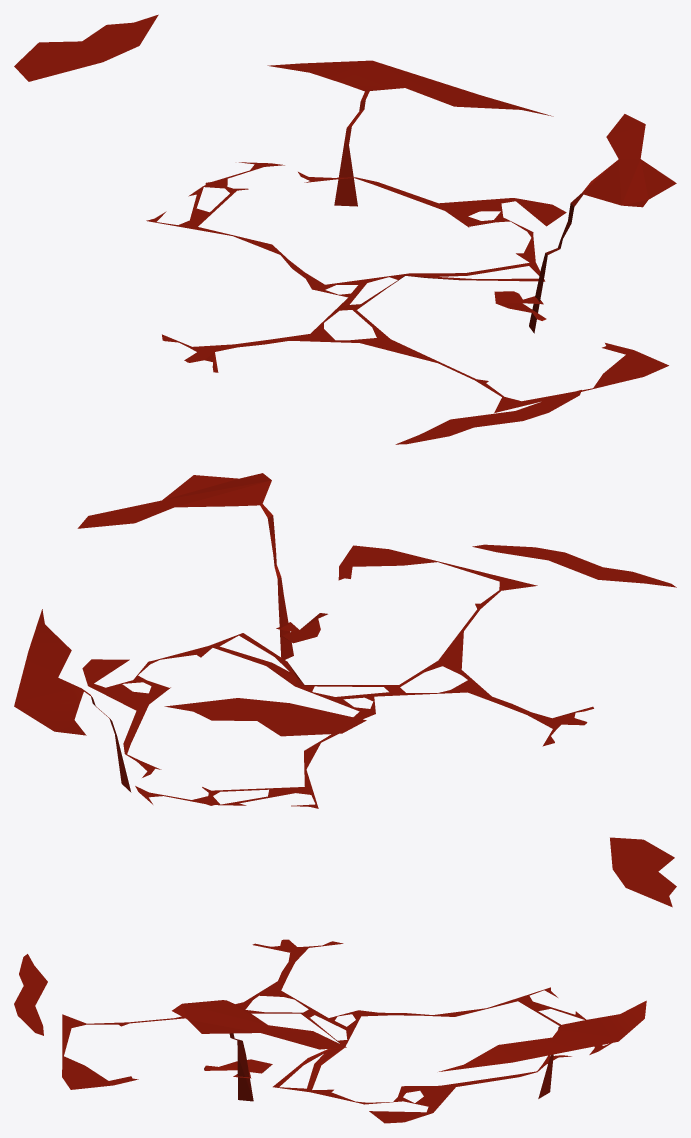
File: Lava_01.FBX
3 views of the same model, one above another, from view 1: azimuth 30°, elevation 25°; view 2: azimuth 150°, elevation 25°; view 3: azimuth 270°, elevation 25° (orthographic). The views are drawn at different scales.
Visible parts, largest first — view 1: lava_01; view 2: lava_01; view 3: lava_01.
Part boxes in pixels (x1=…): lava_01: x1=14, y1=14, x2=676, y2=444; lava_01: x1=14, y1=473, x2=676, y2=808; lava_01: x1=14, y1=837, x2=676, y2=1123.
Bounding box in the file's own units: 21.94 × 7.18 × 30.57.
